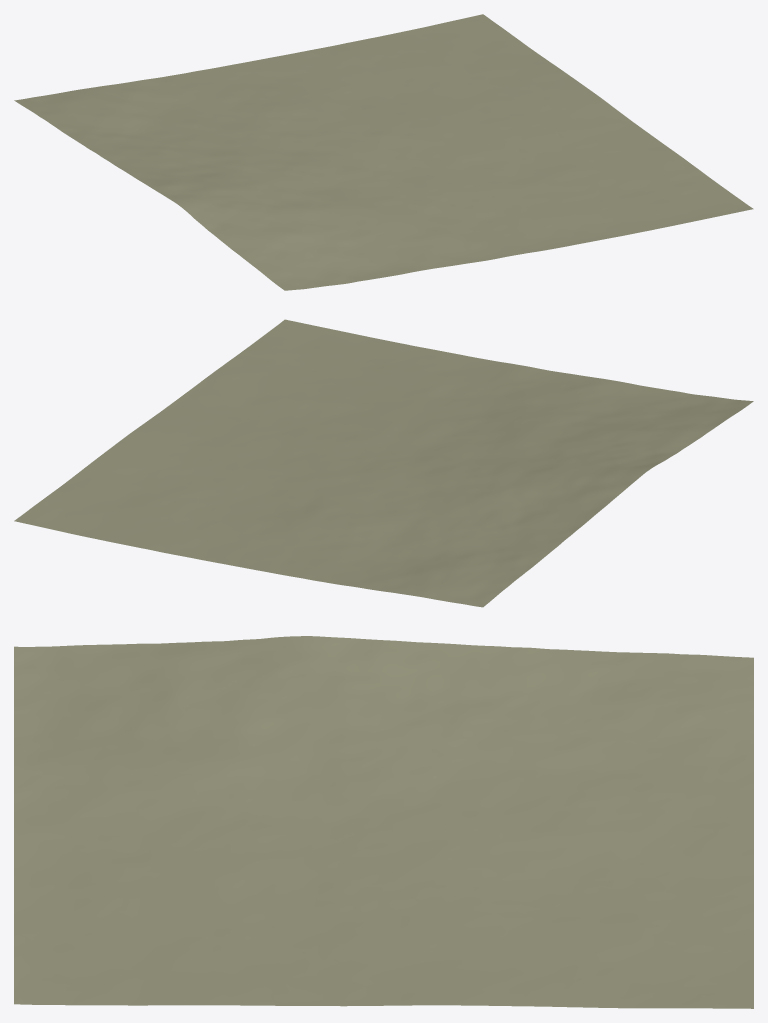
File: SM_VB_CityTerrain_11_5.fbx
3 renders of one model, top to bottom at view 1: azimuth 30°, elevation 25°; view 2: azimuth 150°, elevation 25°; view 3: azimuth 270°, elevation 25°, orthographic. The views are drawn at different scales.
Visible parts, largest first — view 1: SM_VB_CityTerrain_11_5; view 2: SM_VB_CityTerrain_11_5; view 3: SM_VB_CityTerrain_11_5.
Boxes of the visible parts, x1,y1,x2,y2 form: SM_VB_CityTerrain_11_5: [14, 14, 753, 290]; SM_VB_CityTerrain_11_5: [14, 319, 753, 607]; SM_VB_CityTerrain_11_5: [14, 636, 753, 1008].
Bounding box in the file's own units: 600 × 53.76 × 600.
